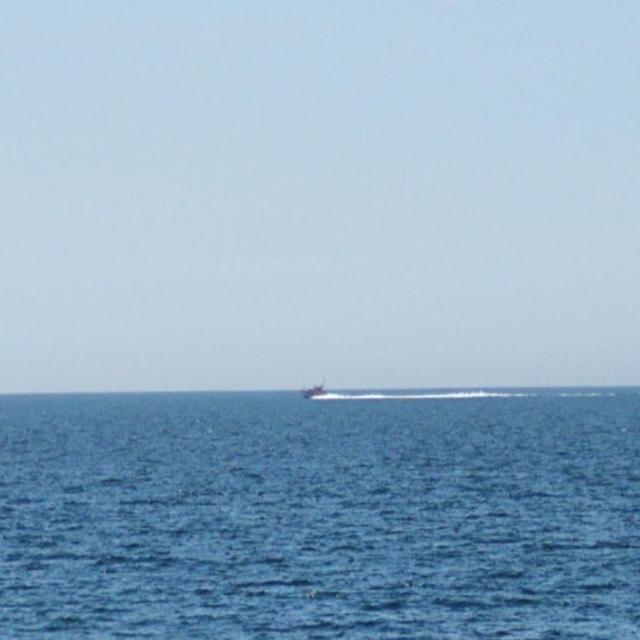houseboat: (297, 374, 335, 404)
